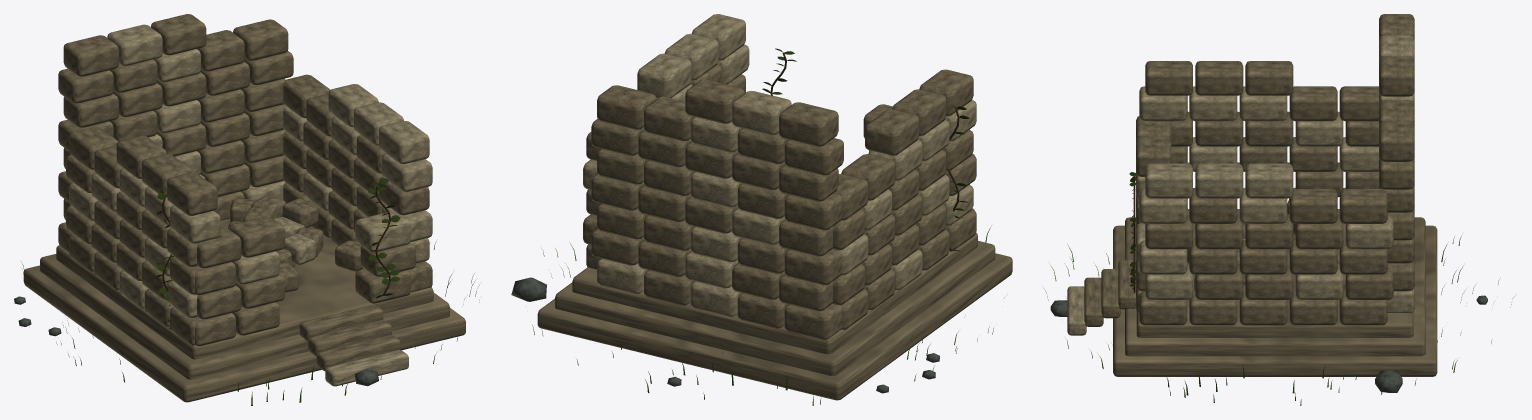
File: 04_ancient_ruins_v4_watchpost.glb
3 views of the same model, side by side, from view 1: azimuth 30°, elevation 25°; view 2: azimuth 150°, elevation 25°; view 3: azimuth 270°, elevation 25° (orthographic). The views are drawn at different scales.
Parts seen in each view (by area): view 1: 04_ancient_ruins_v4_watchpost | Ruins | aged sandstone, 04_ancient_ruins_v4_watchpost | Ruins | pale broken stone, Ruins variant | ivy and encroaching grass.002, 04_ancient_ruins_v4_watchpost | Hill | weathered slate; view 2: 04_ancient_ruins_v4_watchpost | Ruins | aged sandstone, 04_ancient_ruins_v4_watchpost | Ruins | pale broken stone, Ruins variant | ivy and encroaching grass.002, 04_ancient_ruins_v4_watchpost | Hill | weathered slate; view 3: 04_ancient_ruins_v4_watchpost | Ruins | aged sandstone, 04_ancient_ruins_v4_watchpost | Ruins | pale broken stone, Ruins variant | ivy and encroaching grass.002, 04_ancient_ruins_v4_watchpost | Hill | weathered slate.
Boxes of the visible parts, x1,y1,x2,y2 form: 04_ancient_ruins_v4_watchpost | Ruins | aged sandstone: (23,14,465,402); 04_ancient_ruins_v4_watchpost | Ruins | pale broken stone: (69,24,432,386); Ruins variant | ivy and encroaching grass.002: (21,178,479,405); 04_ancient_ruins_v4_watchpost | Hill | weathered slate: (14,296,378,386); 04_ancient_ruins_v4_watchpost | Ruins | aged sandstone: (537,64,1012,400); 04_ancient_ruins_v4_watchpost | Ruins | pale broken stone: (583,14,976,316); Ruins variant | ivy and encroaching grass.002: (532,48,1004,405); 04_ancient_ruins_v4_watchpost | Hill | weathered slate: (511,277,939,393); 04_ancient_ruins_v4_watchpost | Ruins | aged sandstone: (1084,14,1437,376); 04_ancient_ruins_v4_watchpost | Ruins | pale broken stone: (1067,35,1414,335); Ruins variant | ivy and encroaching grass.002: (1044,96,1514,405); 04_ancient_ruins_v4_watchpost | Hill | weathered slate: (1050,295,1487,392).
Bounding box in the file's own units: 6.17 × 3.64 × 6.47.
Materials: 6 (6 with a texture image).
